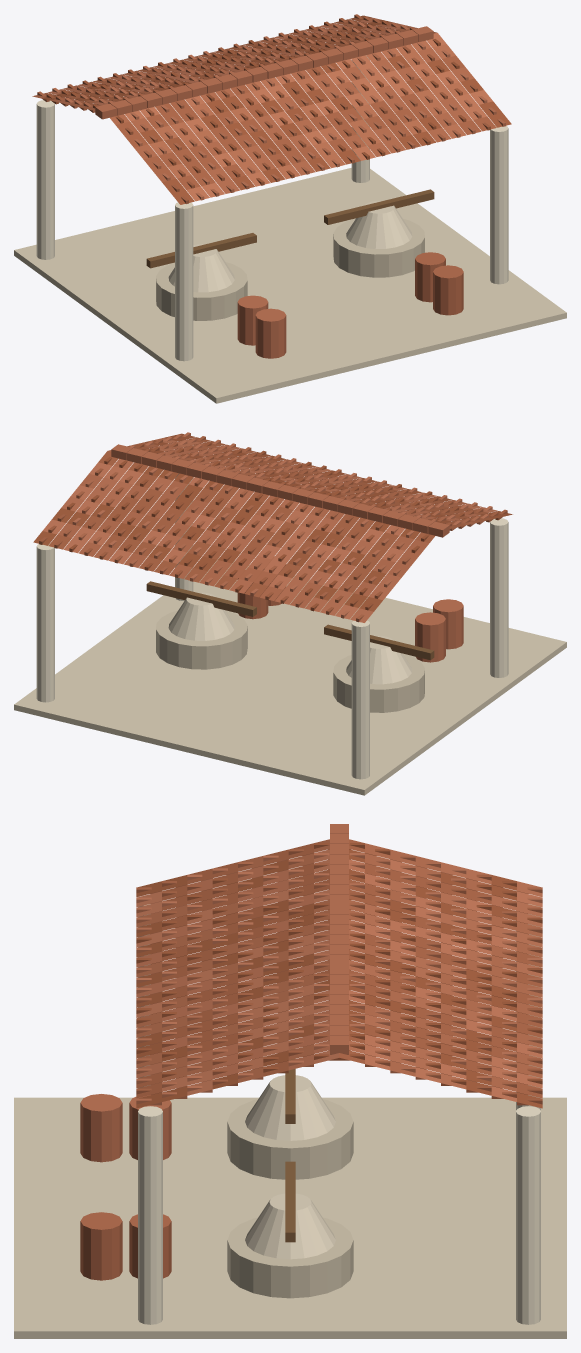
3 renders of one model, top to bottom at view 1: azimuth 30°, elevation 25°; view 2: azimuth 150°, elevation 25°; view 3: azimuth 270°, elevation 25°, orthographic. The views are drawn at different scales.
Parts seen in each view (by area): view 1: Bergfried – Steine, Säulen, Ziegel und Feuerstelle; view 2: Bergfried – Steine, Säulen, Ziegel und Feuerstelle; view 3: Bergfried – Steine, Säulen, Ziegel und Feuerstelle.
Boxes of the visible parts, x1,y1,x2,y2 form: Bergfried – Steine, Säulen, Ziegel und Feuerstelle: (14, 14, 566, 403); Bergfried – Steine, Säulen, Ziegel und Feuerstelle: (14, 432, 566, 795); Bergfried – Steine, Säulen, Ziegel und Feuerstelle: (14, 824, 566, 1338).
Bounding box in the file's own units: 790 × 445 × 790.
